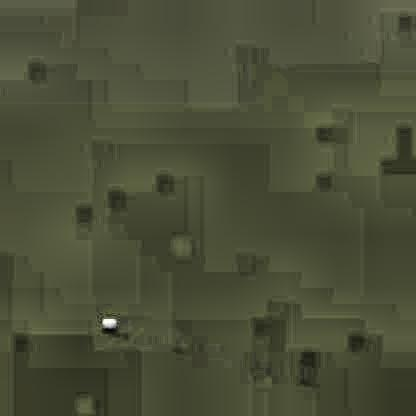golfball: (99, 316, 114, 328)
